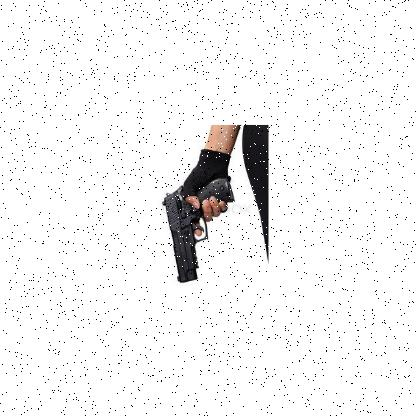gun: (162, 175, 232, 282)
